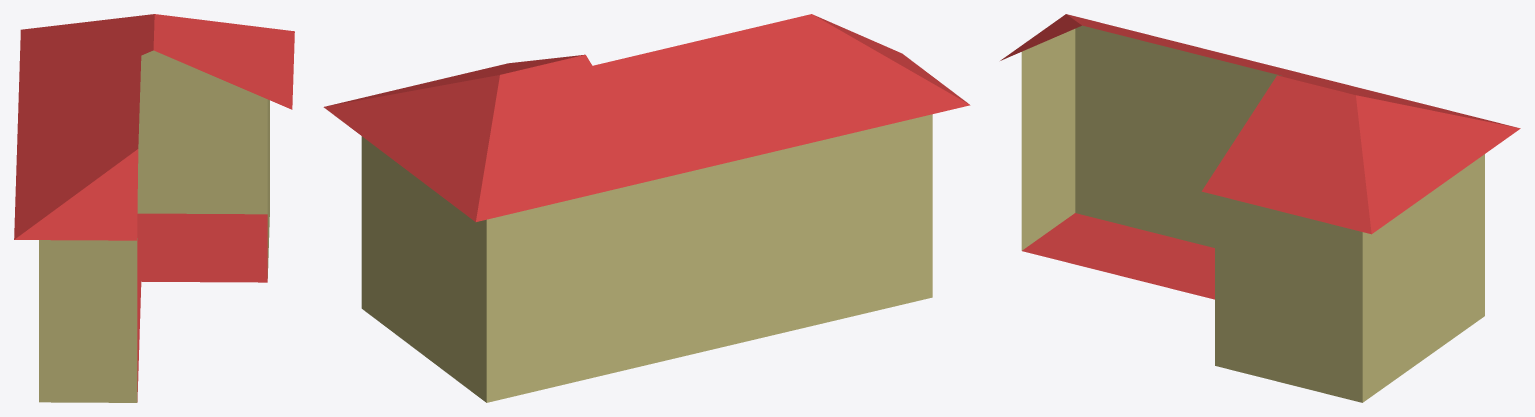
3 renders of one model, left to right at view 1: azimuth 30°, elevation 25°; view 2: azimuth 150°, elevation 25°; view 3: azimuth 270°, elevation 25°, orthographic. The views are drawn at different scales.
Visible parts, largest first — view 1: group_3, group_5, group_6, group_4; view 2: group_5, group_3; view 3: group_5, group_3, group_6, group_4.
Boxes of the visible parts, bbox=[...] form: group_3: bbox=[14, 14, 294, 240]; group_5: bbox=[39, 50, 269, 402]; group_6: bbox=[137, 213, 267, 401]; group_4: bbox=[16, 31, 293, 240]; group_5: bbox=[361, 114, 932, 402]; group_3: bbox=[323, 14, 970, 221]; group_5: bbox=[1021, 25, 1484, 402]; group_3: bbox=[1000, 14, 1520, 234]; group_6: bbox=[1022, 213, 1214, 299]; group_4: bbox=[1002, 14, 1369, 233].
Bounding box in the file's own units: 14.91 × 14.93 × 7.77.
